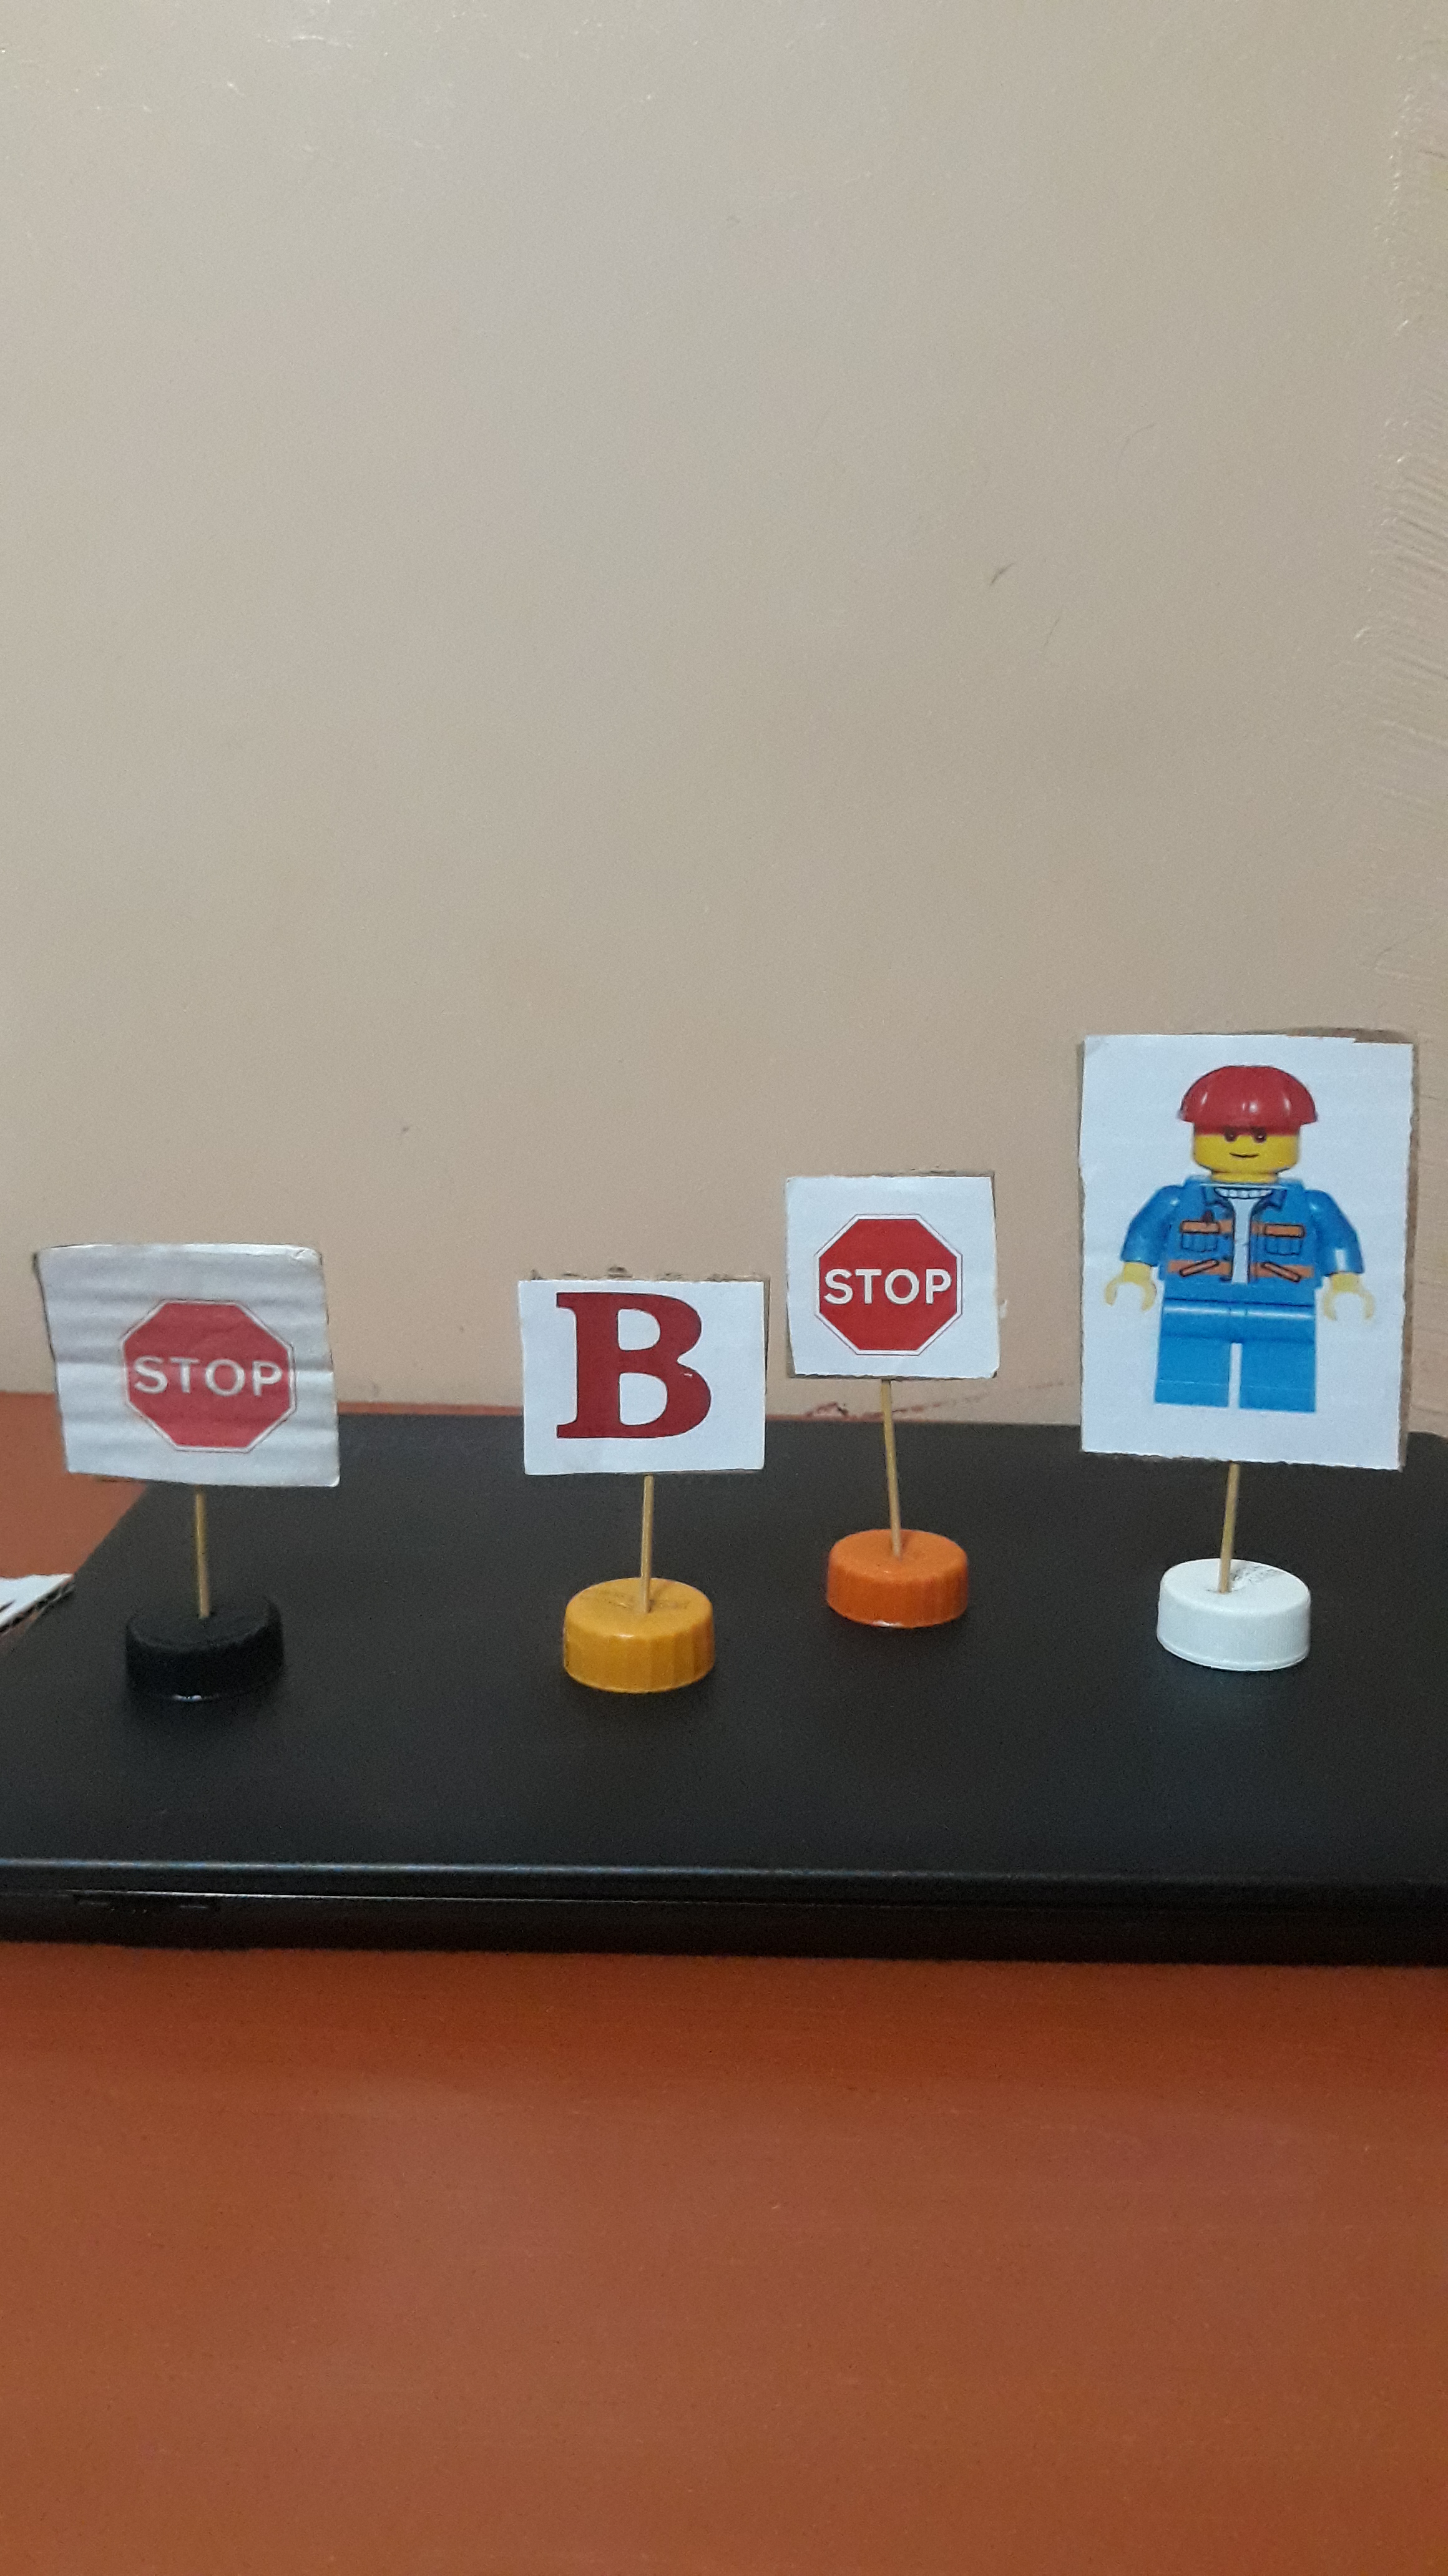pedestrian: (1091, 1042, 1399, 1460)
stop: (88, 1264, 318, 1475), (795, 1179, 989, 1370)
zone B: (541, 1288, 751, 1456)
